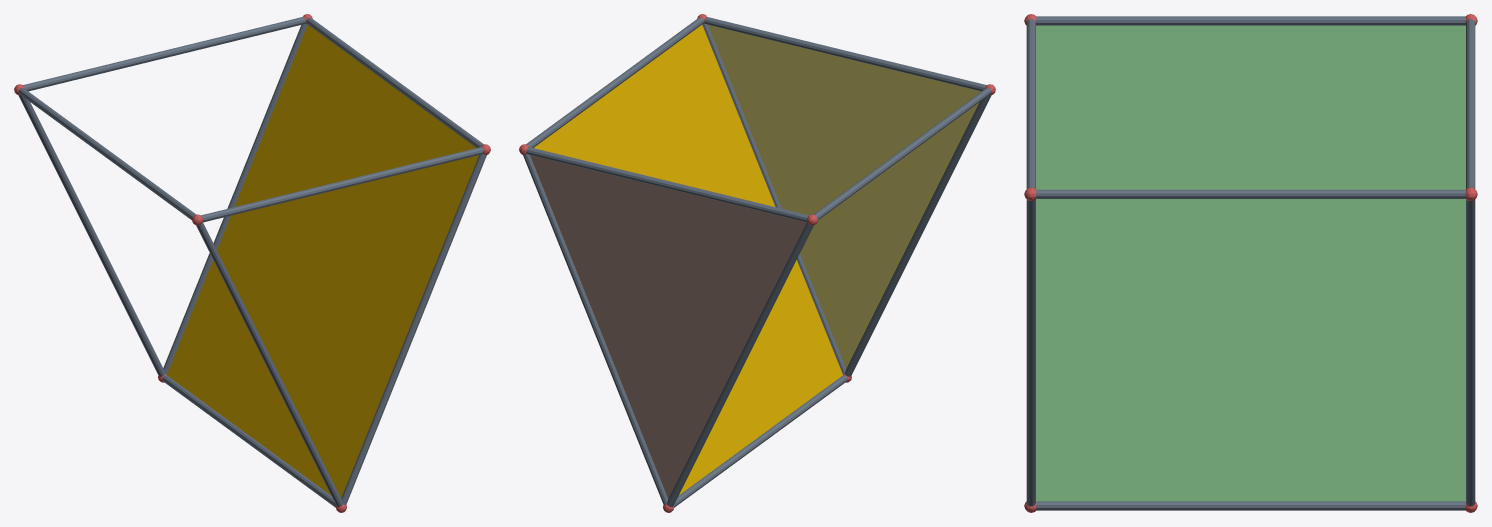
Rendered from langtru.glb.
3 views of the same model, side by side, from view 1: azimuth 30°, elevation 25°; view 2: azimuth 150°, elevation 25°; view 3: azimuth 270°, elevation 25° (orthographic). The views are drawn at different scales.
Visible parts, largest first — view 1: world; view 2: world; view 3: world.
Boxes of the visible parts, <box> form: world: <box>14,14,490,512</box>; world: <box>519,14,995,512</box>; world: <box>1024,14,1477,512</box>.
Size of the model in its own units: 0.724 by 0.774 by 0.774.
